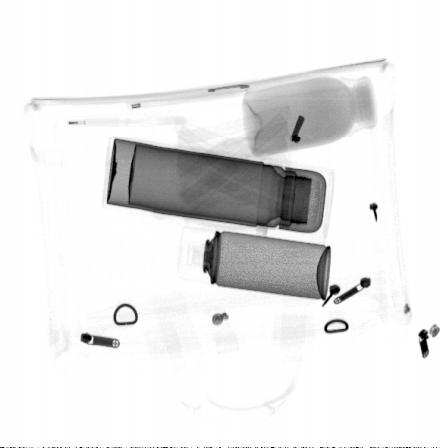Sprayer: (176, 225, 332, 304)
